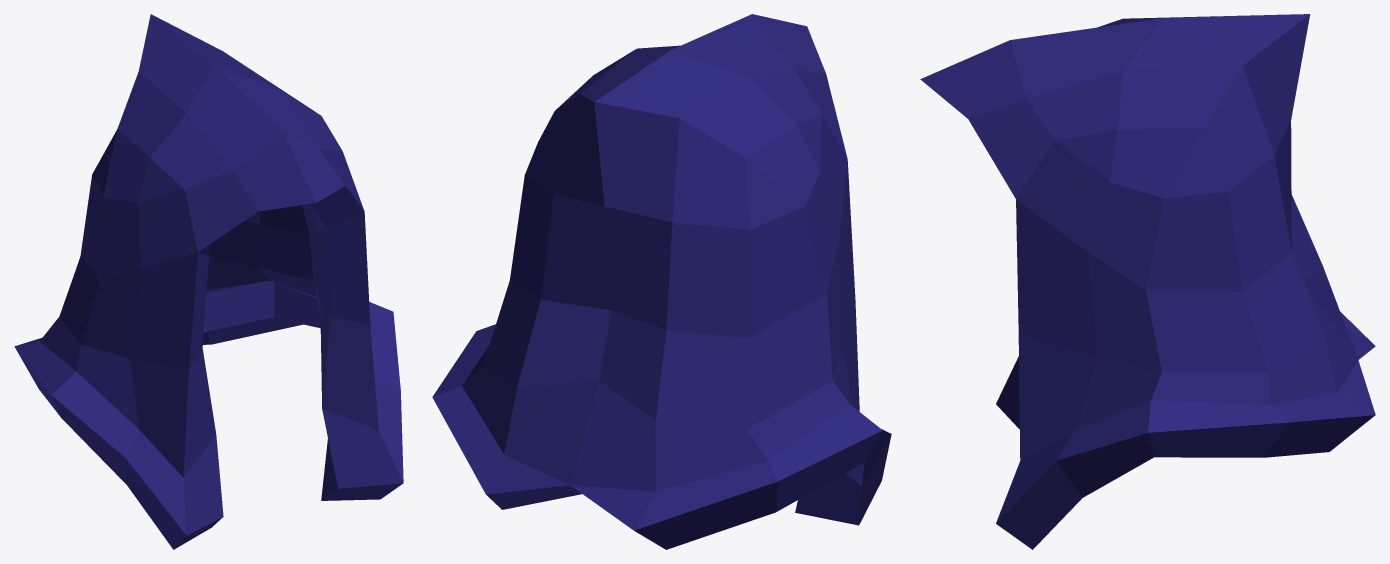
The model's file is Hood_M_L_AD_001.fbx.
The picture shows the model from 3 angles, left to right: view 1: azimuth 30°, elevation 25°; view 2: azimuth 150°, elevation 25°; view 3: azimuth 270°, elevation 25°; orthographic projection. The views are drawn at different scales.
Parts seen in each view (by area): view 1: Hood_M_L_AD_001; view 2: Hood_M_L_AD_001; view 3: Hood_M_L_AD_001.
Part boxes in pixels (<box>): Hood_M_L_AD_001: <box>14,14,403,549</box>; Hood_M_L_AD_001: <box>432,14,891,549</box>; Hood_M_L_AD_001: <box>920,14,1375,549</box>.
Size of the model in its own units: 0.4002 by 0.4715 by 0.4082.
